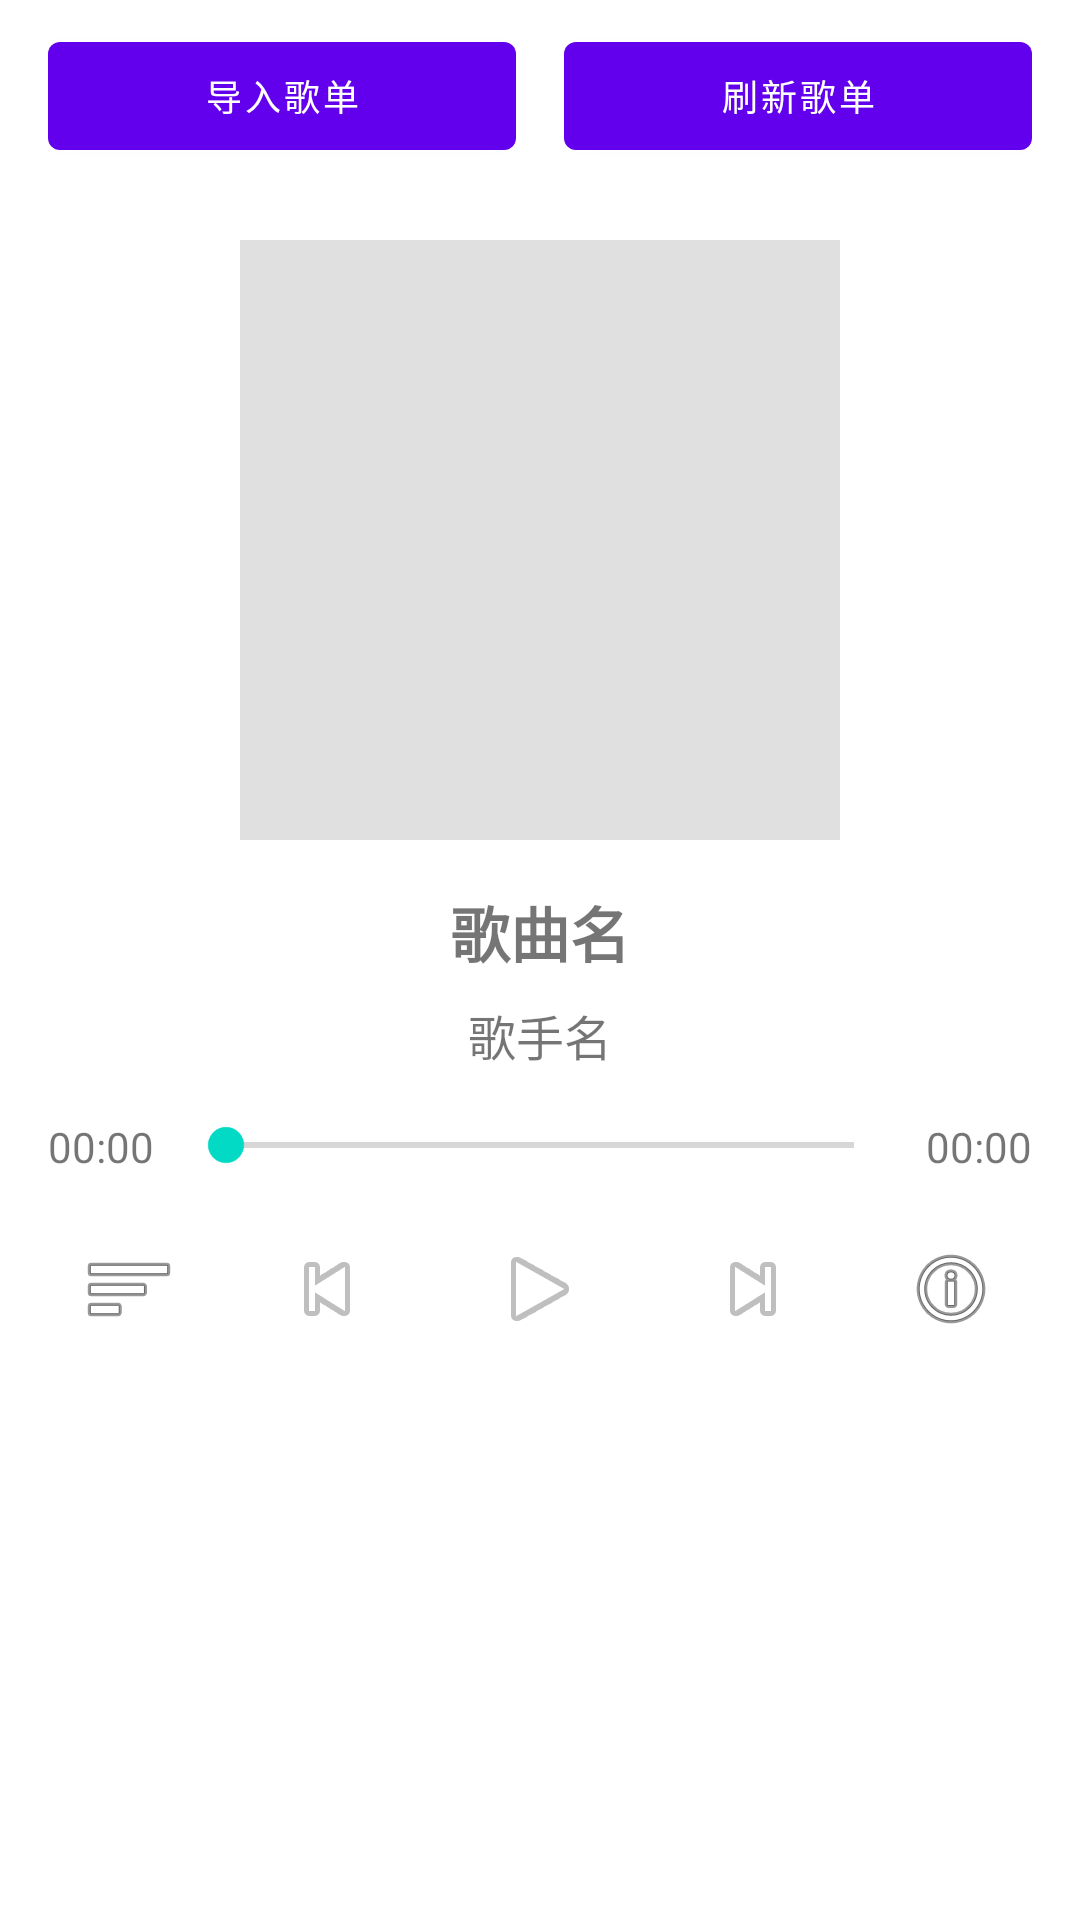

Screen size 1080px×1920px. Icon name, then its center in pixels as (x,y):
next: (753,1289)
play: (540,1289)
previous: (327,1289)
sort by size: (129,1289)
